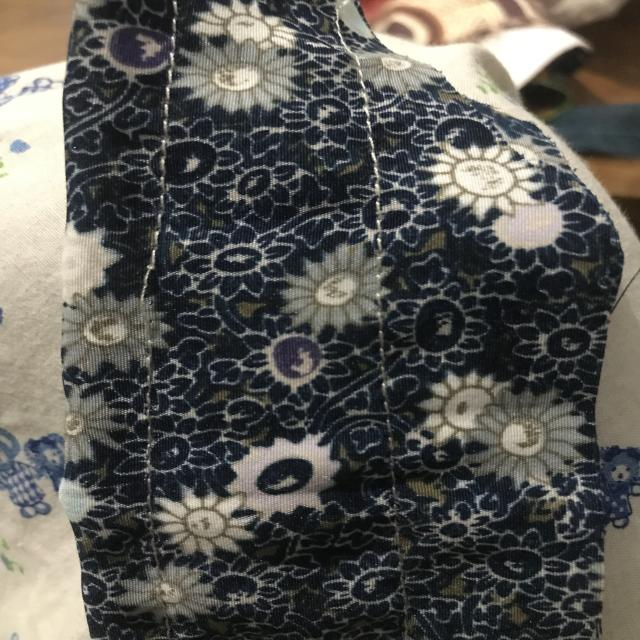skip: (119, 247, 176, 368)
